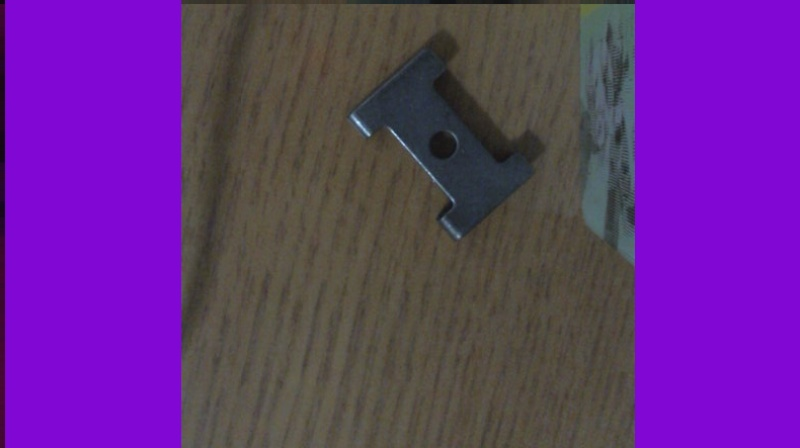O002: (343, 38, 542, 243)
